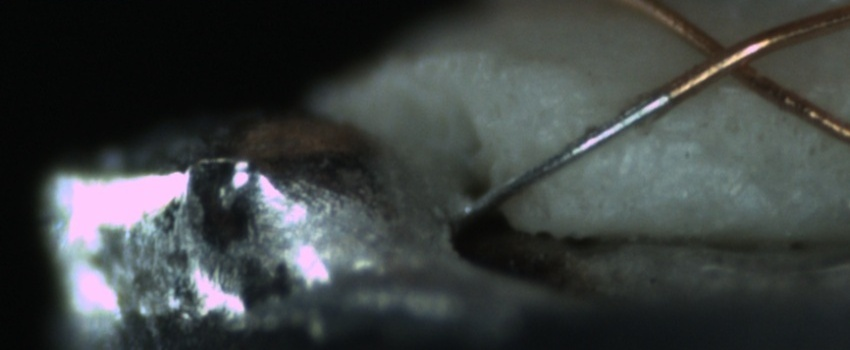CL: (682, 23, 774, 91)
TS: (472, 90, 671, 214)
